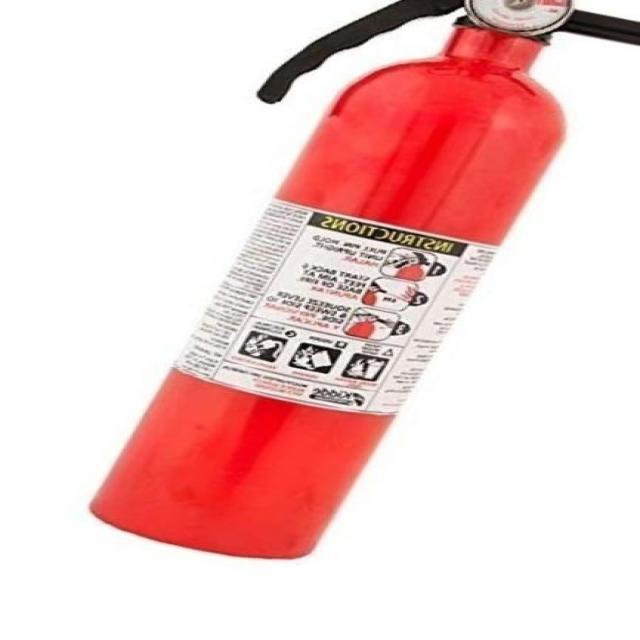fire_extinguisher: (80, 0, 638, 563)
